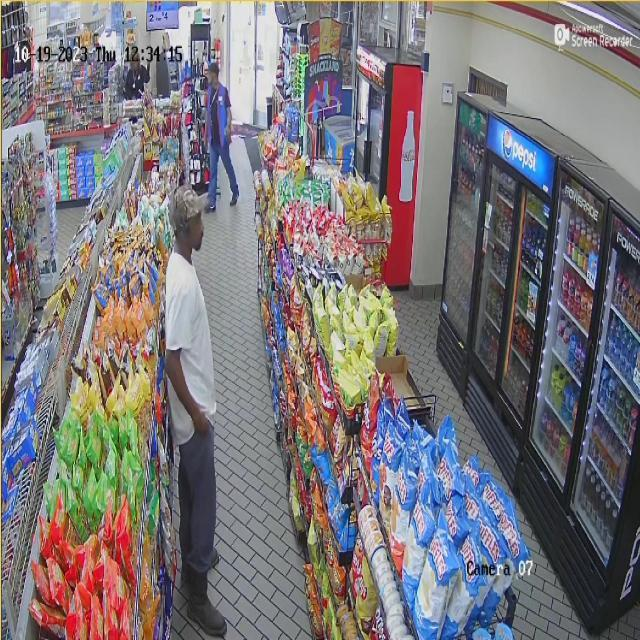Normal: (154, 177, 234, 640), (200, 53, 240, 220)
